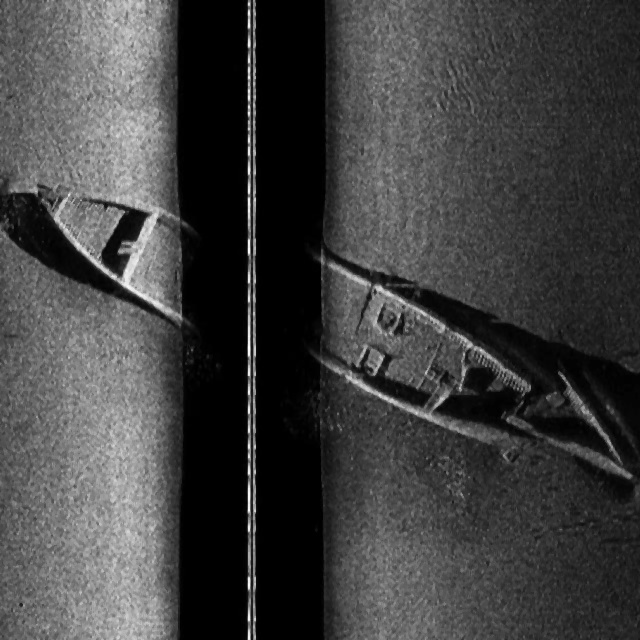Ship: (5, 148, 640, 527)
